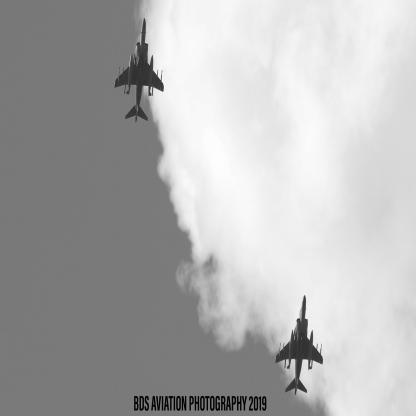AV8B: (115, 19, 165, 124), (276, 295, 324, 396)
